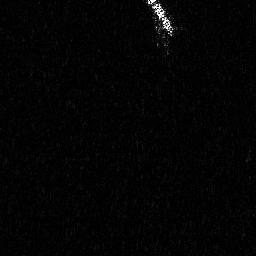ship: (143, 1, 176, 37)
